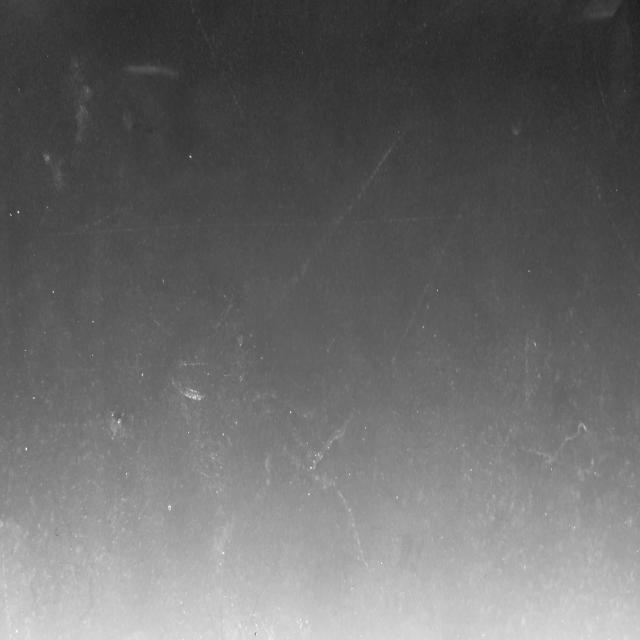beta: (266, 130, 406, 322), (491, 269, 589, 472), (389, 198, 470, 369), (190, 3, 250, 127), (578, 158, 640, 278), (591, 54, 640, 191), (330, 476, 374, 578), (68, 207, 126, 234), (1, 547, 14, 640)
